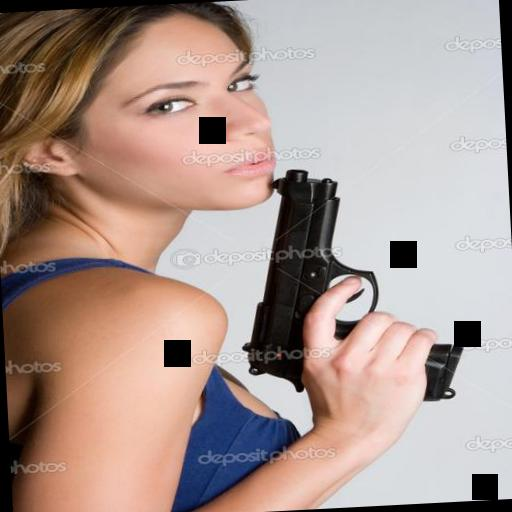Handgun: (234, 154, 472, 408)
